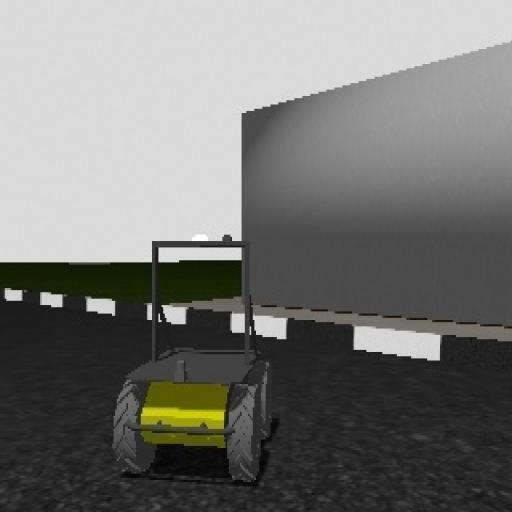huskya200: (98, 208, 285, 512)
